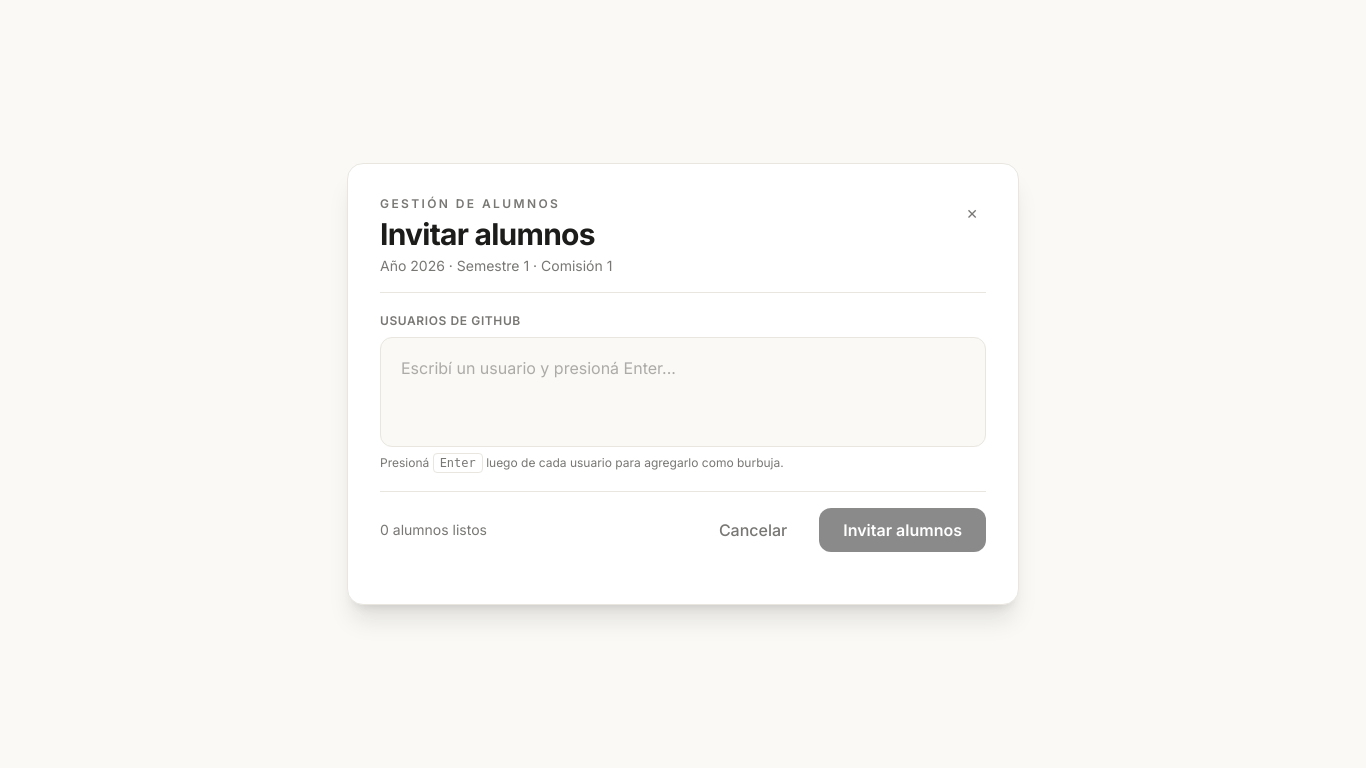
InvitarAlumnosModal › Caso alumno duplicado: manejo de error y notificación toast clara
This screenshot has width=1366, height=768.
Type "juanperez" into the field with test id "username-input" at coordinates (683, 368), box [393, 350, 973, 386]
Then press Enter
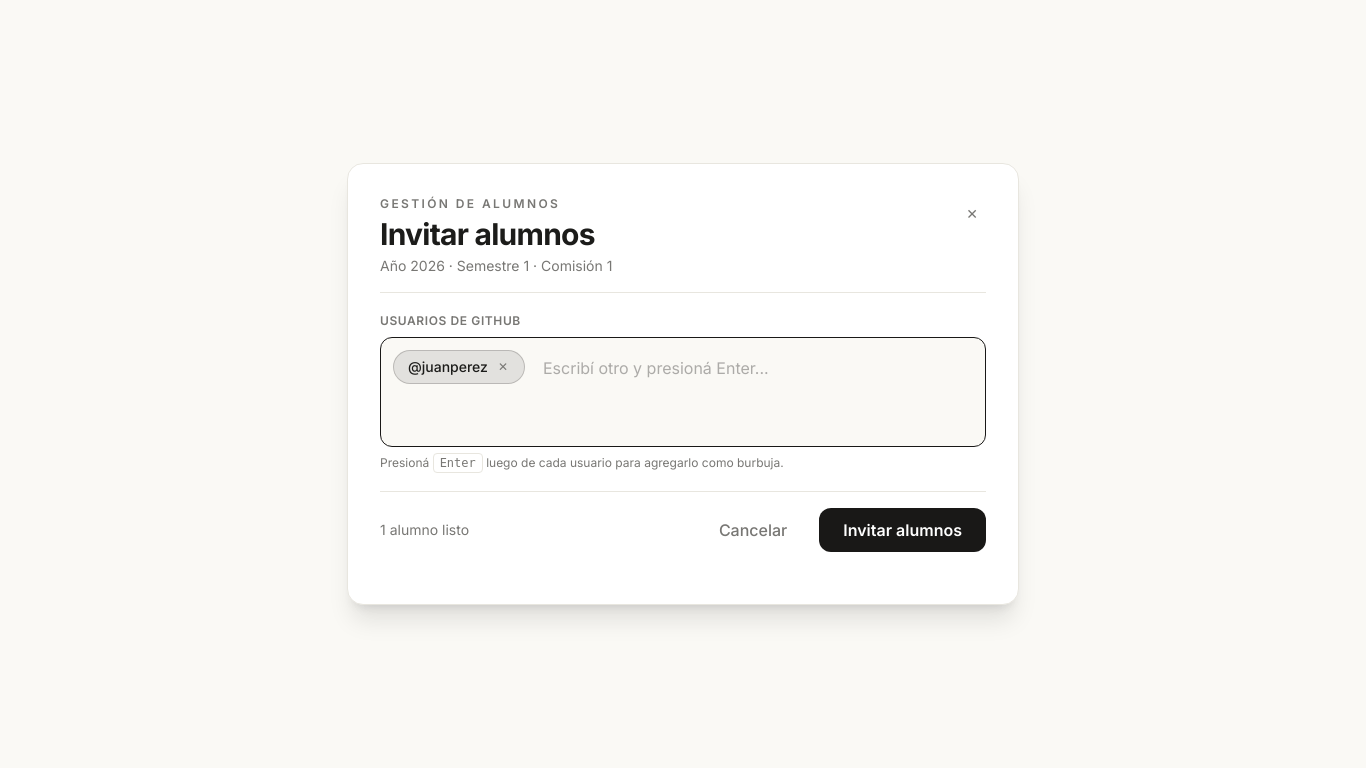
Click the button with test id "submit-button" at coordinates (903, 530), box [819, 508, 986, 552]
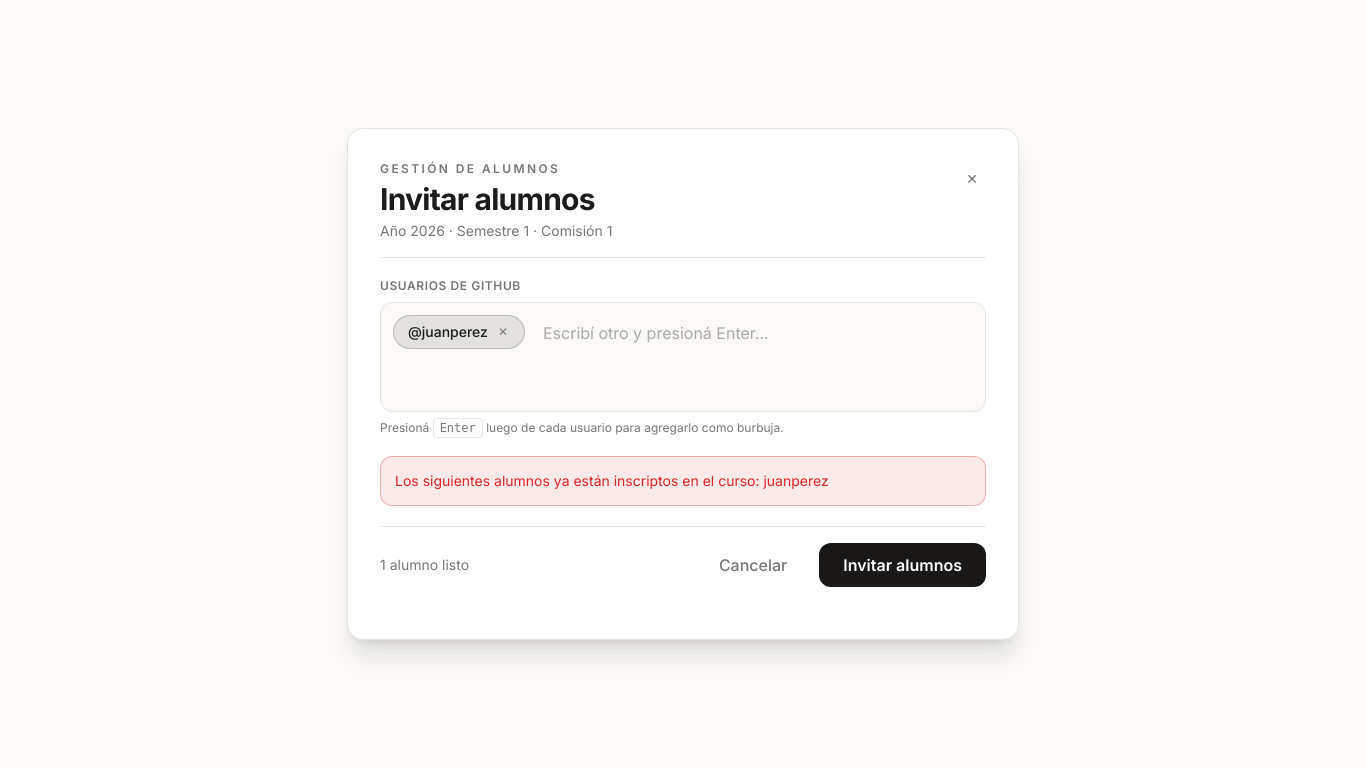
Now the element with test id "error-message" reads "Los siguientes alumnos ya están inscriptos en el curso: juanperez", box [395, 472, 829, 489]
